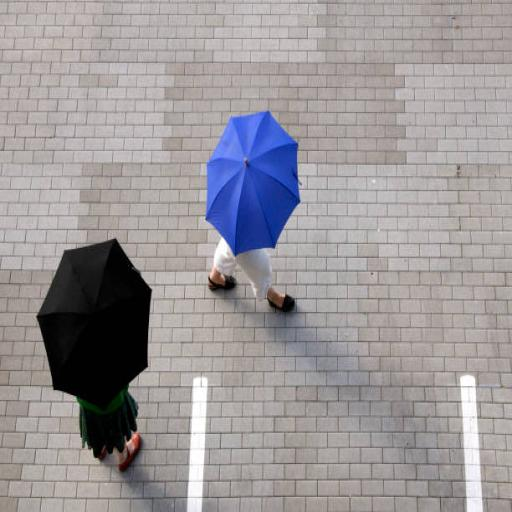guarda_chuva: (35, 237, 152, 410), (204, 108, 300, 257)
